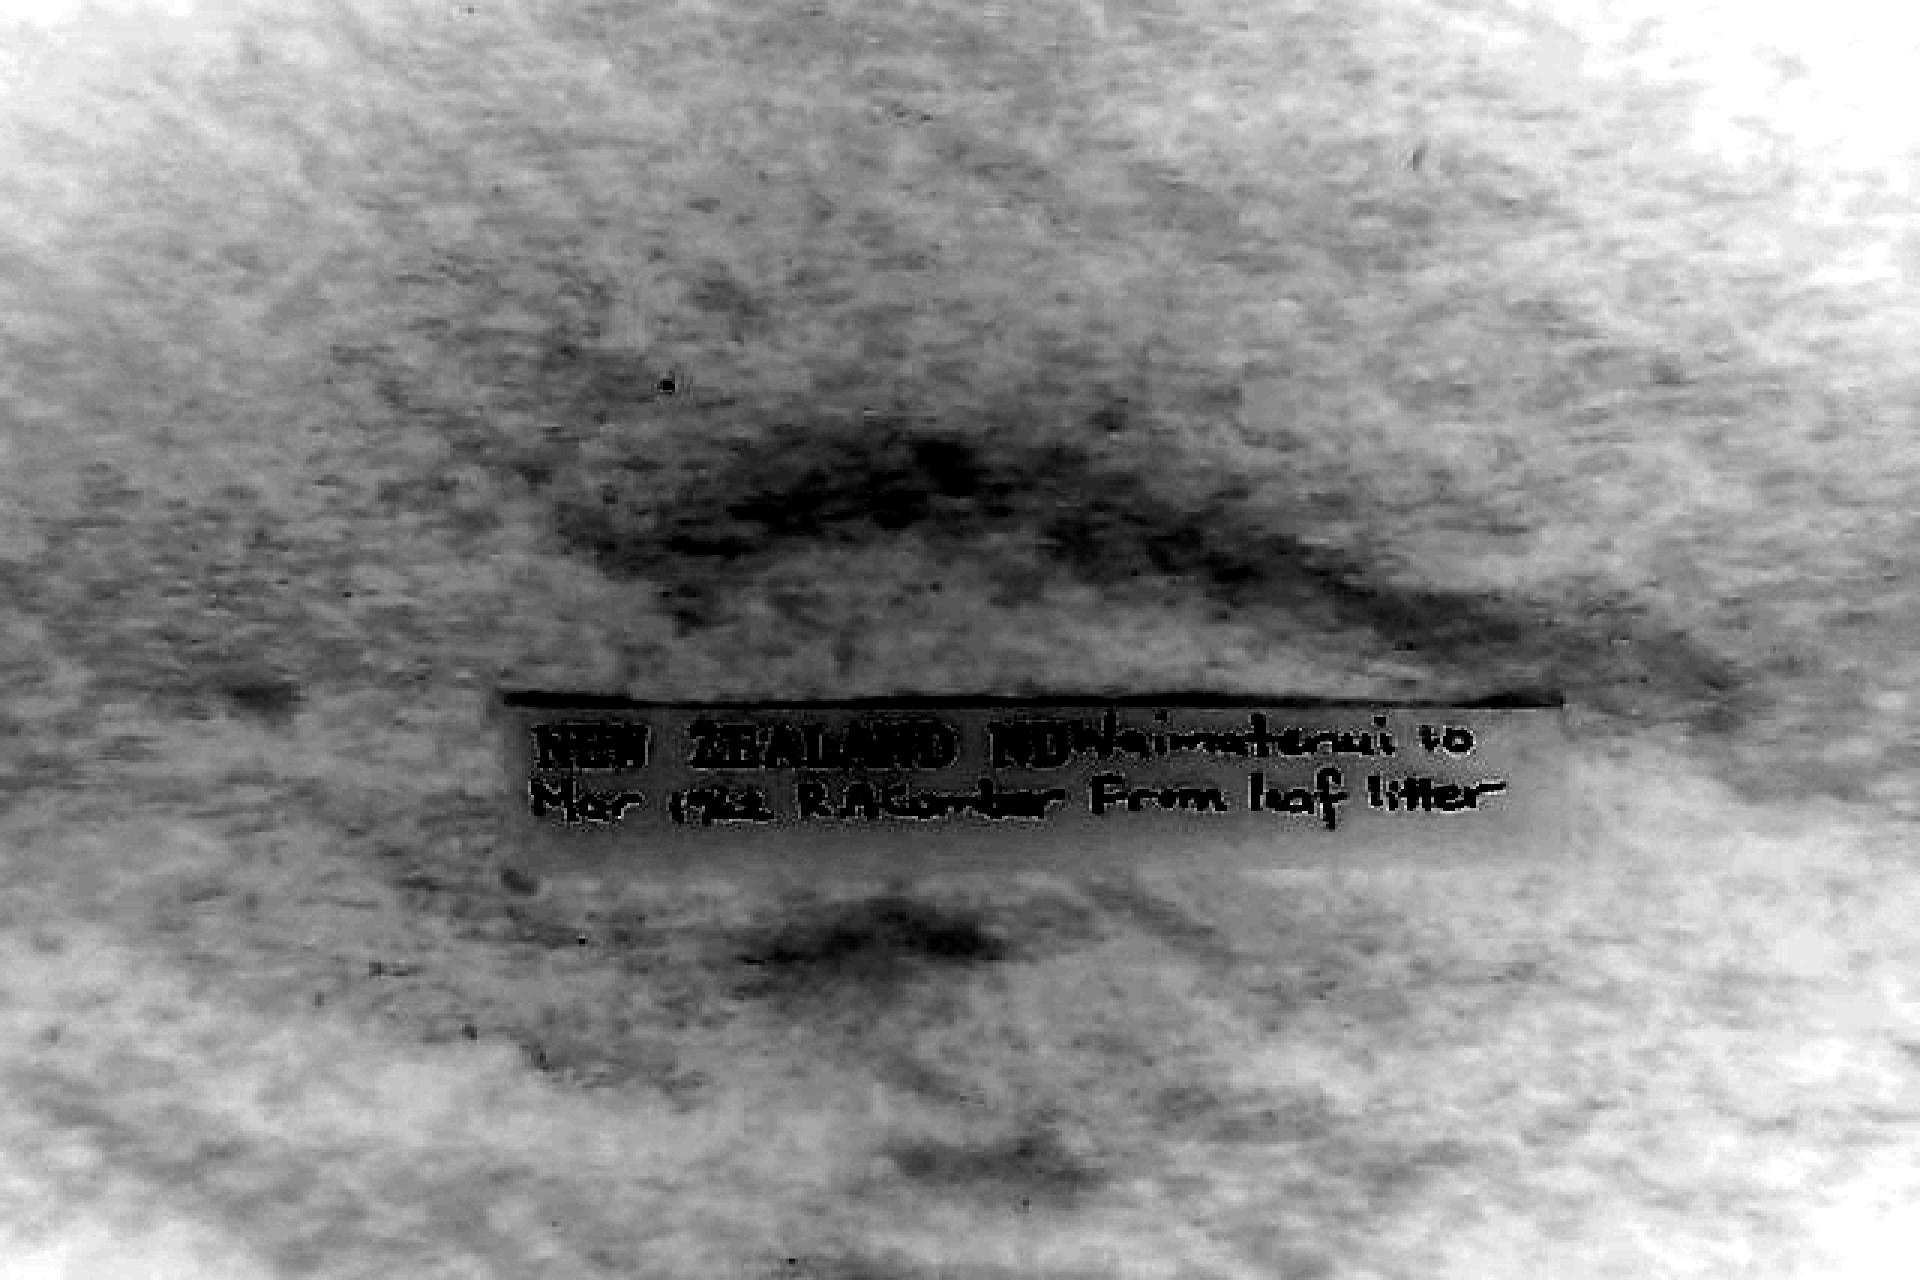mixed_label: (502, 700, 1571, 878)
